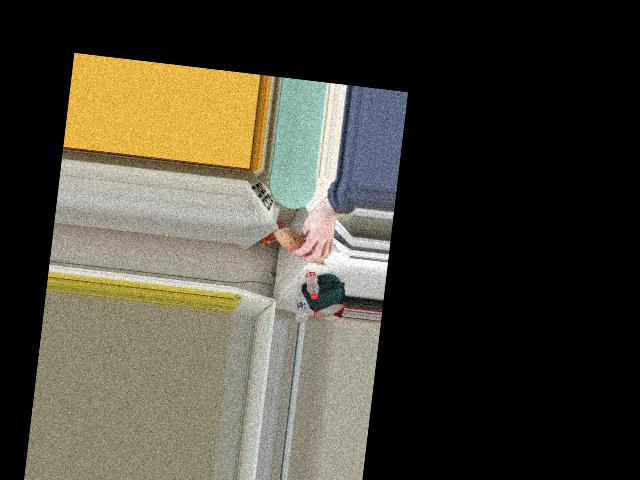sweet_potato: (273, 227, 332, 266)
